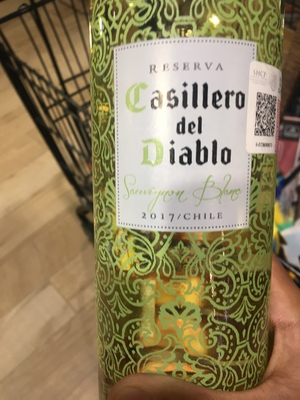casillero del diablo sauvignon blanc: (78, 5, 295, 398)
